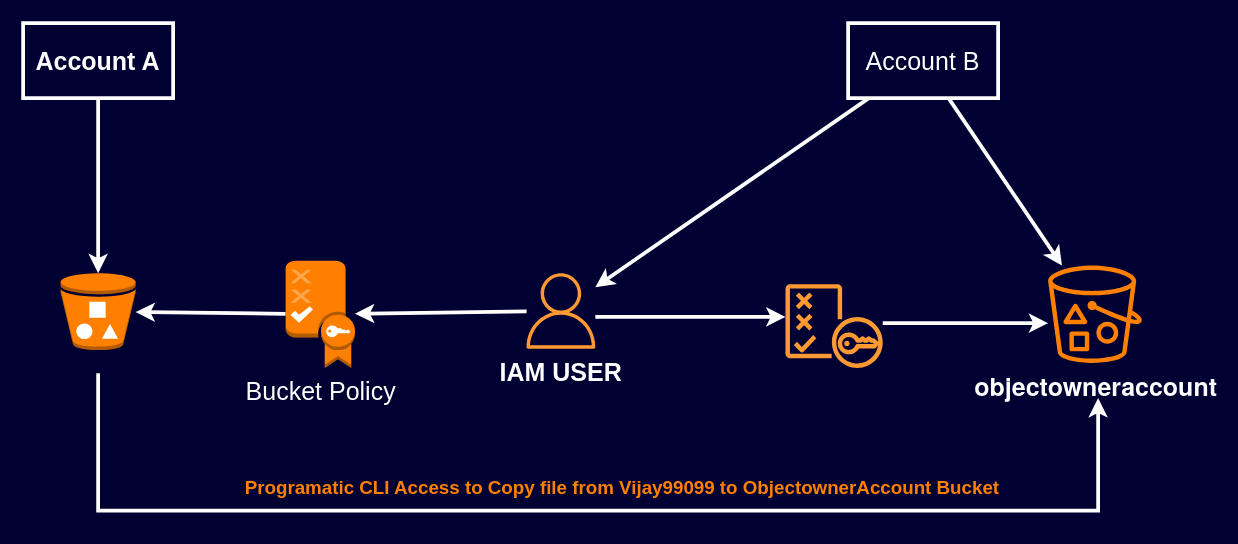
Some shapes in this 1238 by 544 pixel diagram are drawn without their labels. The centre of each missing label's shape, as x and y in pixels:
"IAM Policy" goes at [833,325].
"vijay99099" goes at [97,311].
